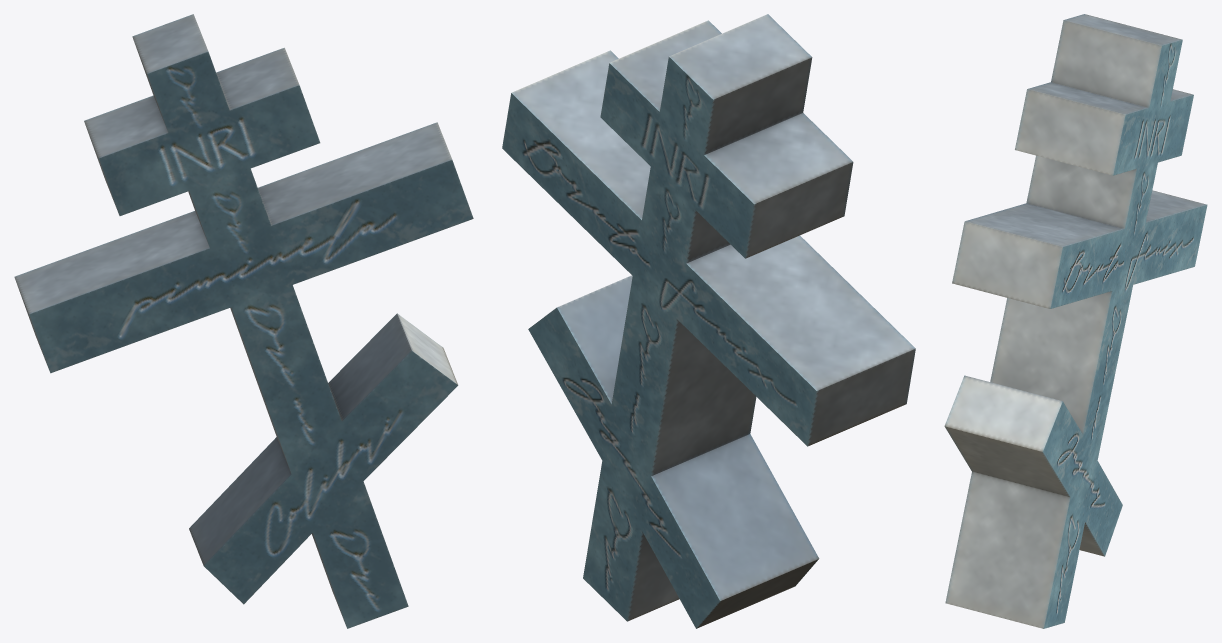
3 renders of one model, left to right at view 1: azimuth 30°, elevation 25°; view 2: azimuth 150°, elevation 25°; view 3: azimuth 270°, elevation 25°, orthographic. The views are drawn at different scales.
Parts seen in each view (by area): view 1: Cruz_Orto_Cube.011; view 2: Cruz_Orto_Cube.011; view 3: Cruz_Orto_Cube.011.
Part boxes in pixels (x1,y1,x2,y2): Cruz_Orto_Cube.011: [14, 14, 473, 628]; Cruz_Orto_Cube.011: [502, 14, 915, 628]; Cruz_Orto_Cube.011: [944, 14, 1207, 628].
Size of the model in its own units: 1.97 by 2.69 by 1.18.
